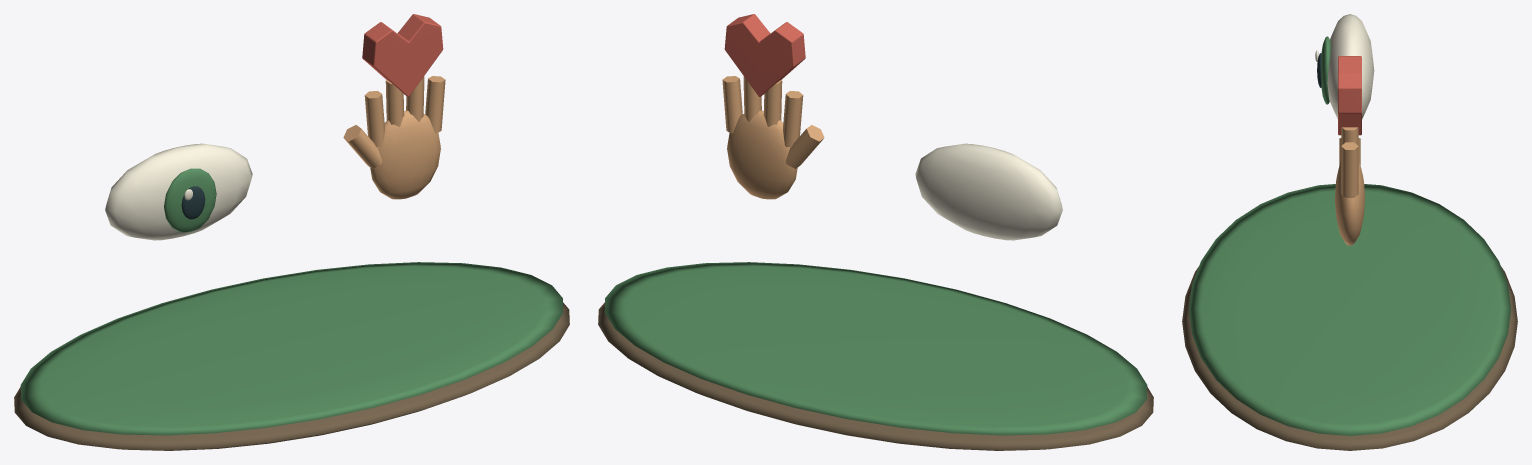
Rendered from complete-first-feel-and-receive.glb.
3 renders of one model, left to right at view 1: azimuth 30°, elevation 25°; view 2: azimuth 150°, elevation 25°; view 3: azimuth 270°, elevation 25°, orthographic.
Parts seen in each view (by area): view 1: complete-first-feel-and-receive_surface_01, complete-first-feel-and-receive_surface_00, complete-first-feel-and-receive_surface_04, complete-first-feel-and-receive_surface_02, complete-first-feel-and-receive_surface_05, complete-first-feel-and-receive_surface_03; view 2: complete-first-feel-and-receive_surface_01, complete-first-feel-and-receive_surface_02, complete-first-feel-and-receive_surface_00, complete-first-feel-and-receive_surface_04, complete-first-feel-and-receive_surface_05; view 3: complete-first-feel-and-receive_surface_01, complete-first-feel-and-receive_surface_00, complete-first-feel-and-receive_surface_04, complete-first-feel-and-receive_surface_02, complete-first-feel-and-receive_surface_05.
Boxes of the visible parts, x1=… form: complete-first-feel-and-receive_surface_01: x1=20, y1=168, x2=563, y2=435; complete-first-feel-and-receive_surface_00: x1=14, y1=302, x2=569, y2=450; complete-first-feel-and-receive_surface_04: x1=343, y1=76, x2=445, y2=199; complete-first-feel-and-receive_surface_02: x1=105, y1=143, x2=252, y2=240; complete-first-feel-and-receive_surface_05: x1=362, y1=14, x2=443, y2=96; complete-first-feel-and-receive_surface_03: x1=181, y1=186, x2=205, y2=219; complete-first-feel-and-receive_surface_01: x1=604, y1=262, x2=1147, y2=435; complete-first-feel-and-receive_surface_02: x1=915, y1=143, x2=1062, y2=240; complete-first-feel-and-receive_surface_00: x1=598, y1=302, x2=1153, y2=450; complete-first-feel-and-receive_surface_04: x1=722, y1=76, x2=824, y2=199; complete-first-feel-and-receive_surface_05: x1=724, y1=14, x2=805, y2=96; complete-first-feel-and-receive_surface_01: x1=1189, y1=36, x2=1510, y2=435; complete-first-feel-and-receive_surface_00: x1=1182, y1=267, x2=1517, y2=450; complete-first-feel-and-receive_surface_04: x1=1335, y1=127, x2=1364, y2=245; complete-first-feel-and-receive_surface_02: x1=1315, y1=14, x2=1374, y2=119; complete-first-feel-and-receive_surface_05: x1=1338, y1=56, x2=1361, y2=135.
Size of the model in its own units: 4.56 by 2.69 by 2.5.
